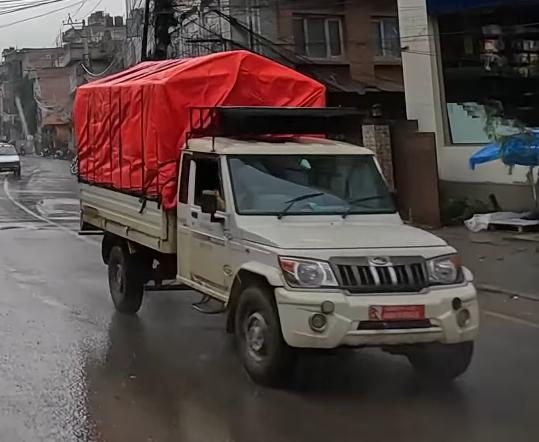taxi: (0, 132, 27, 189)
transport_vehicle: (66, 46, 485, 394)
